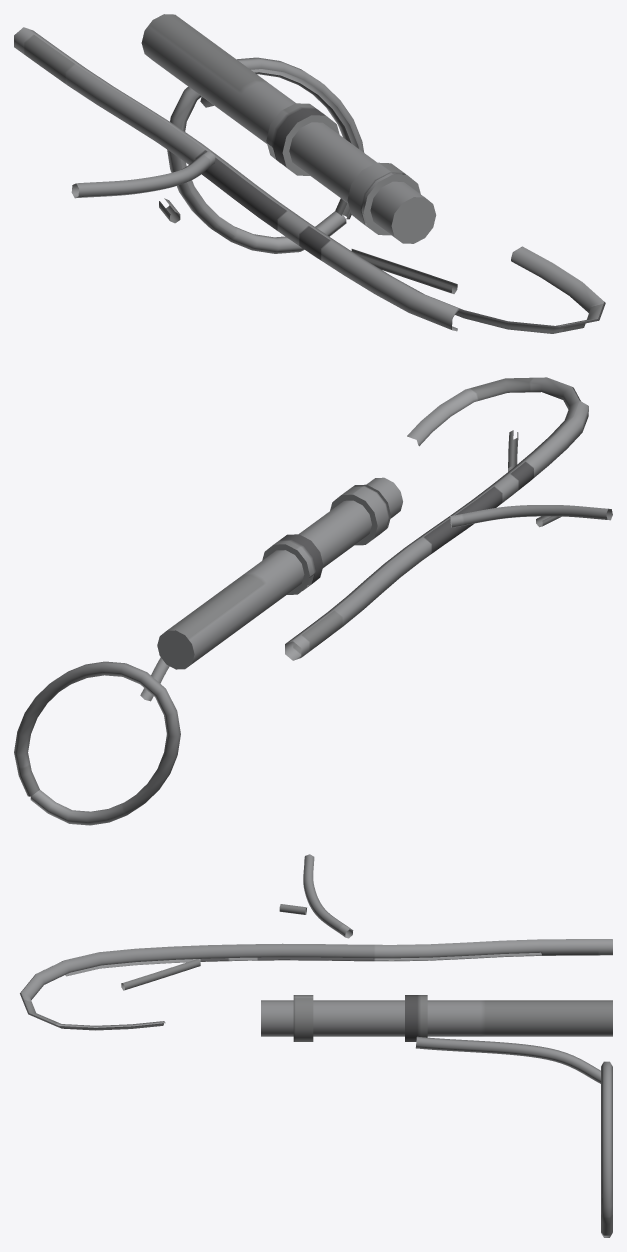
The picture shows the model from 3 angles, top to bottom: view 1: azimuth 30°, elevation 25°; view 2: azimuth 150°, elevation 25°; view 3: azimuth 270°, elevation 25°; orthographic projection. The views are drawn at different scales.
Bounding box in the file's own units: 0.8915 × 0.5561 × 1.31.
